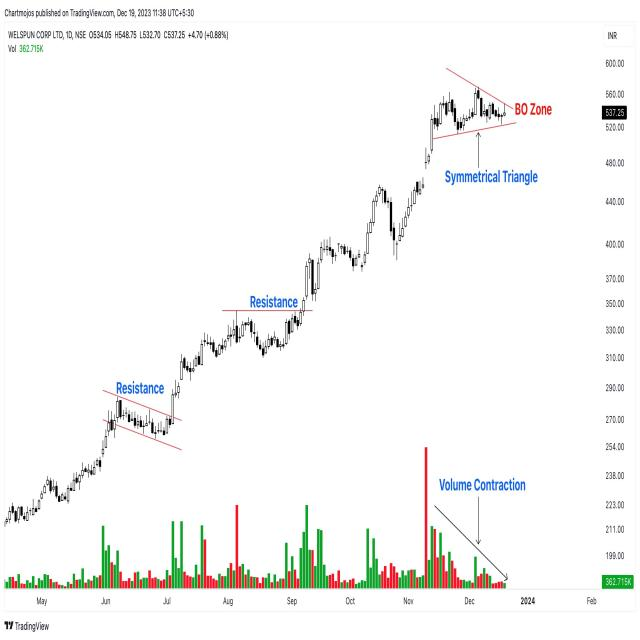Triangle: (420, 56, 524, 141)
